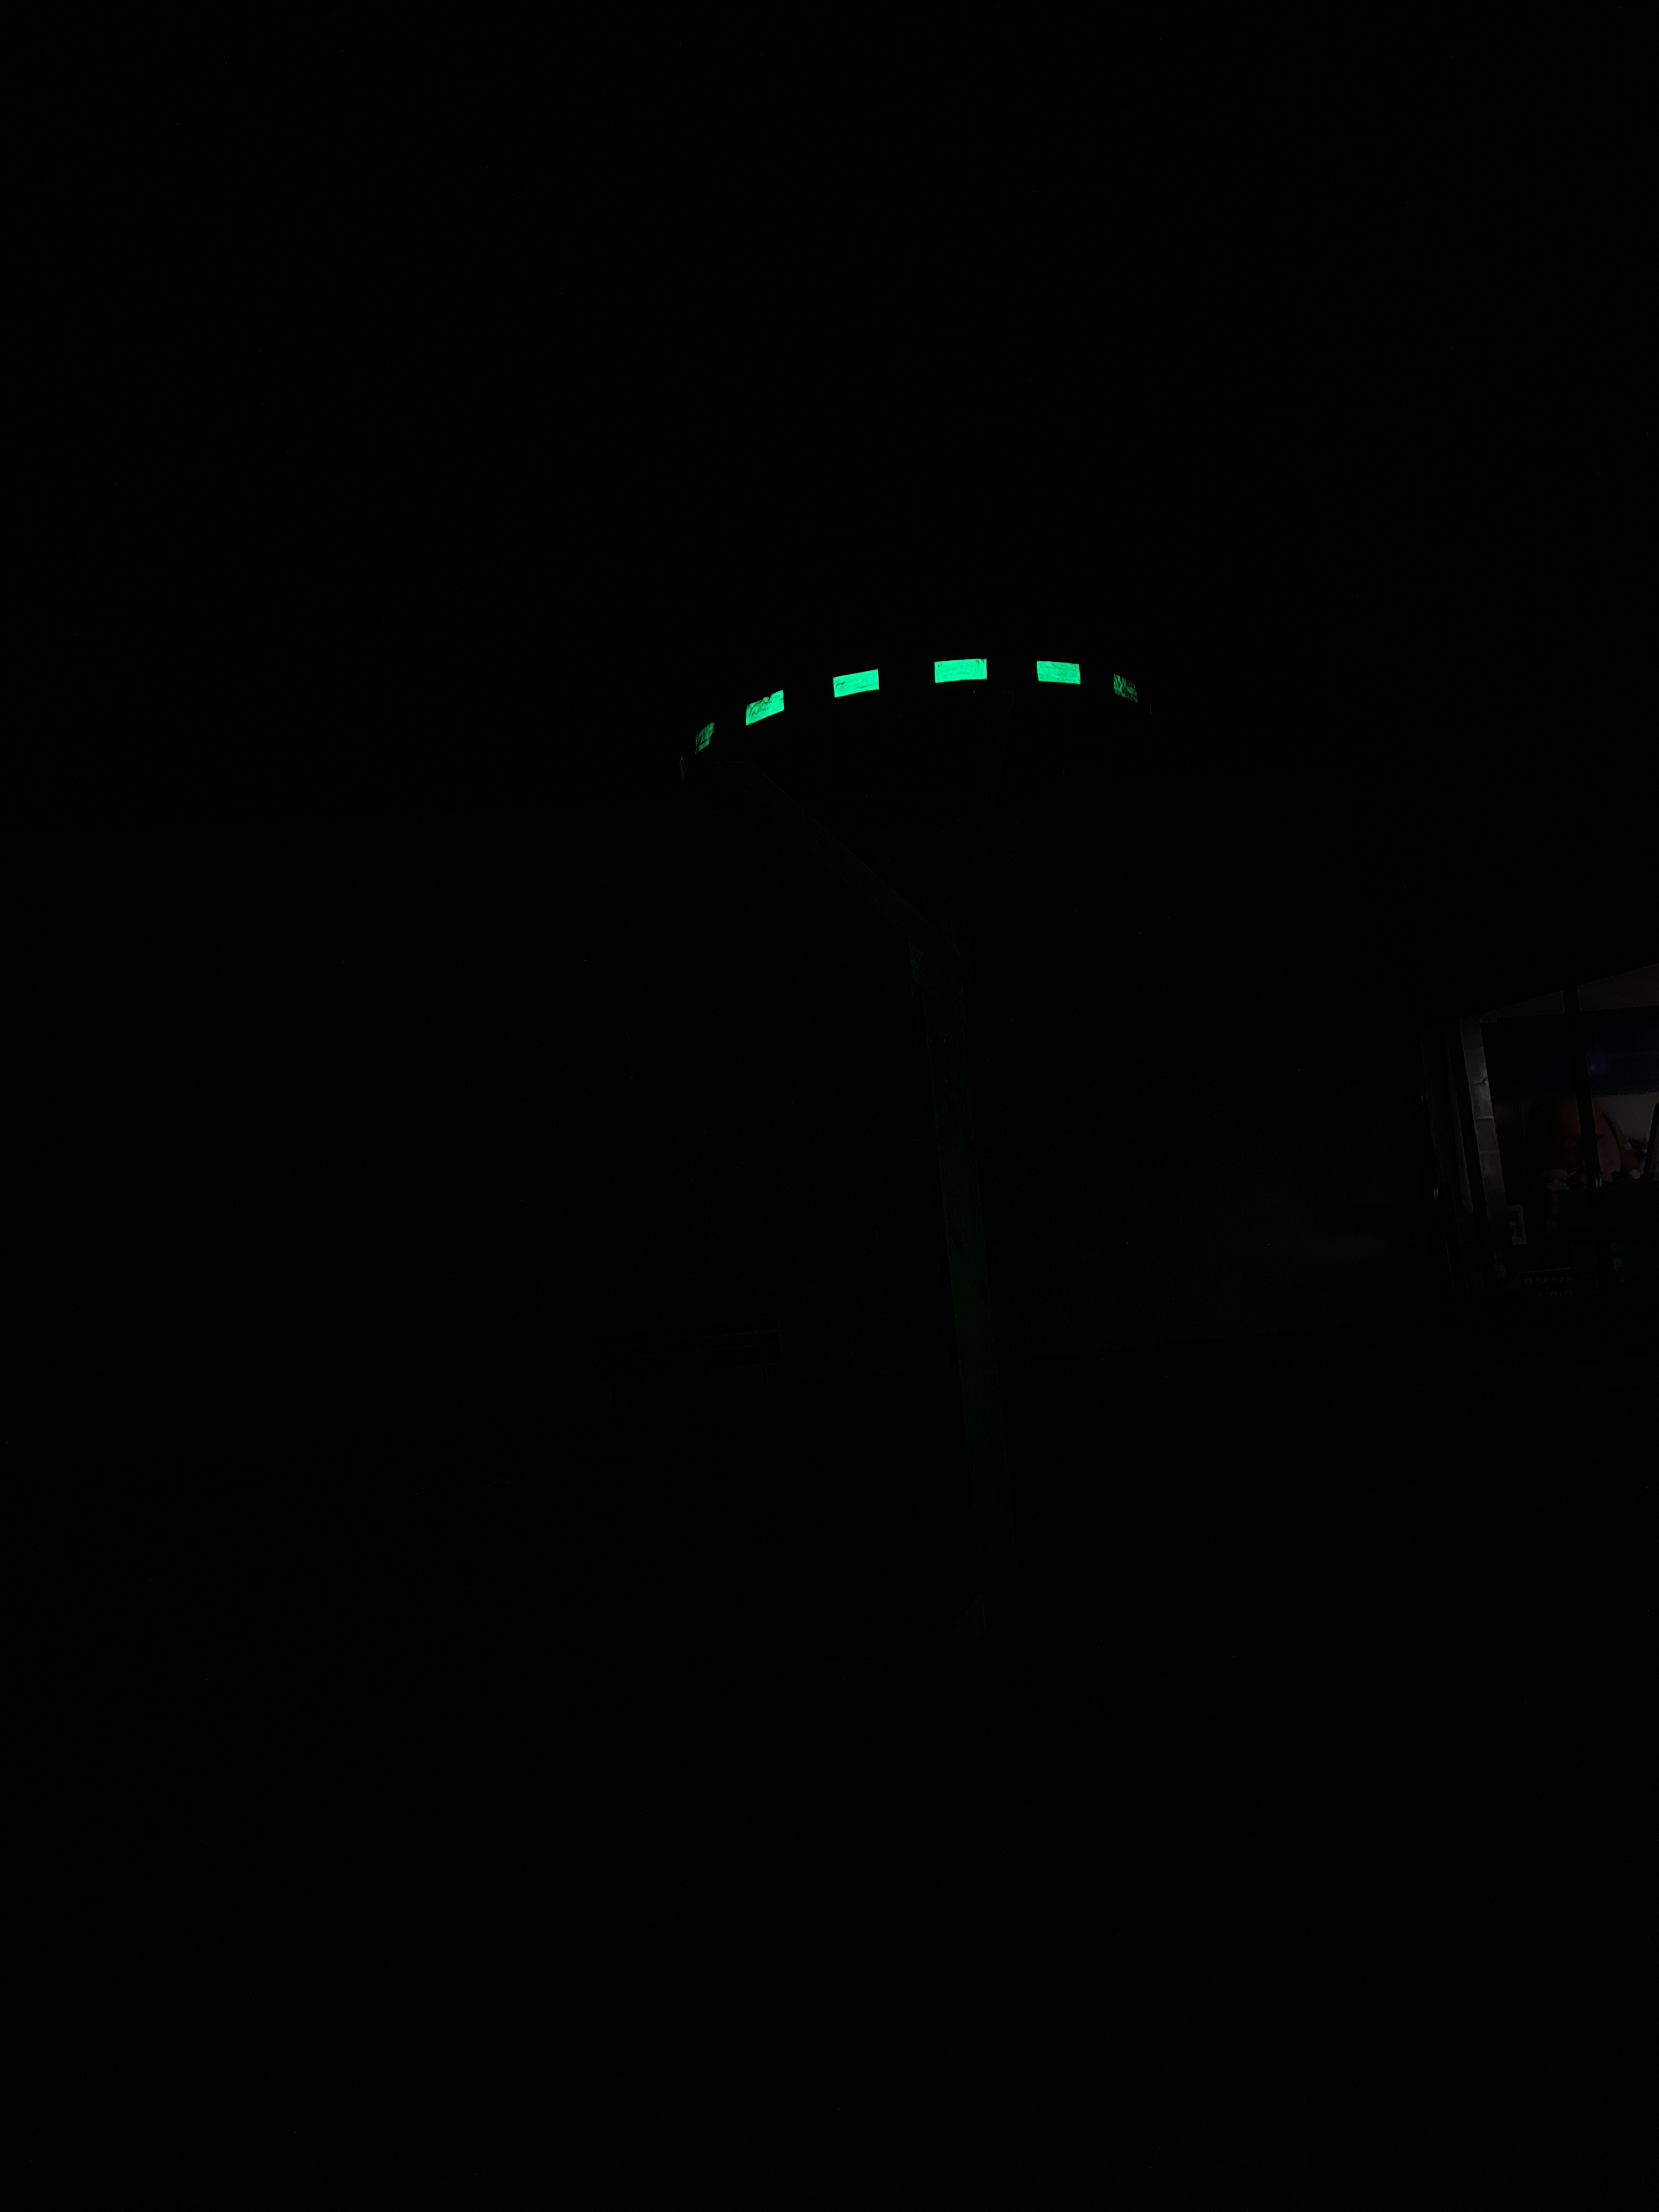hoop: (667, 611, 1168, 794)
